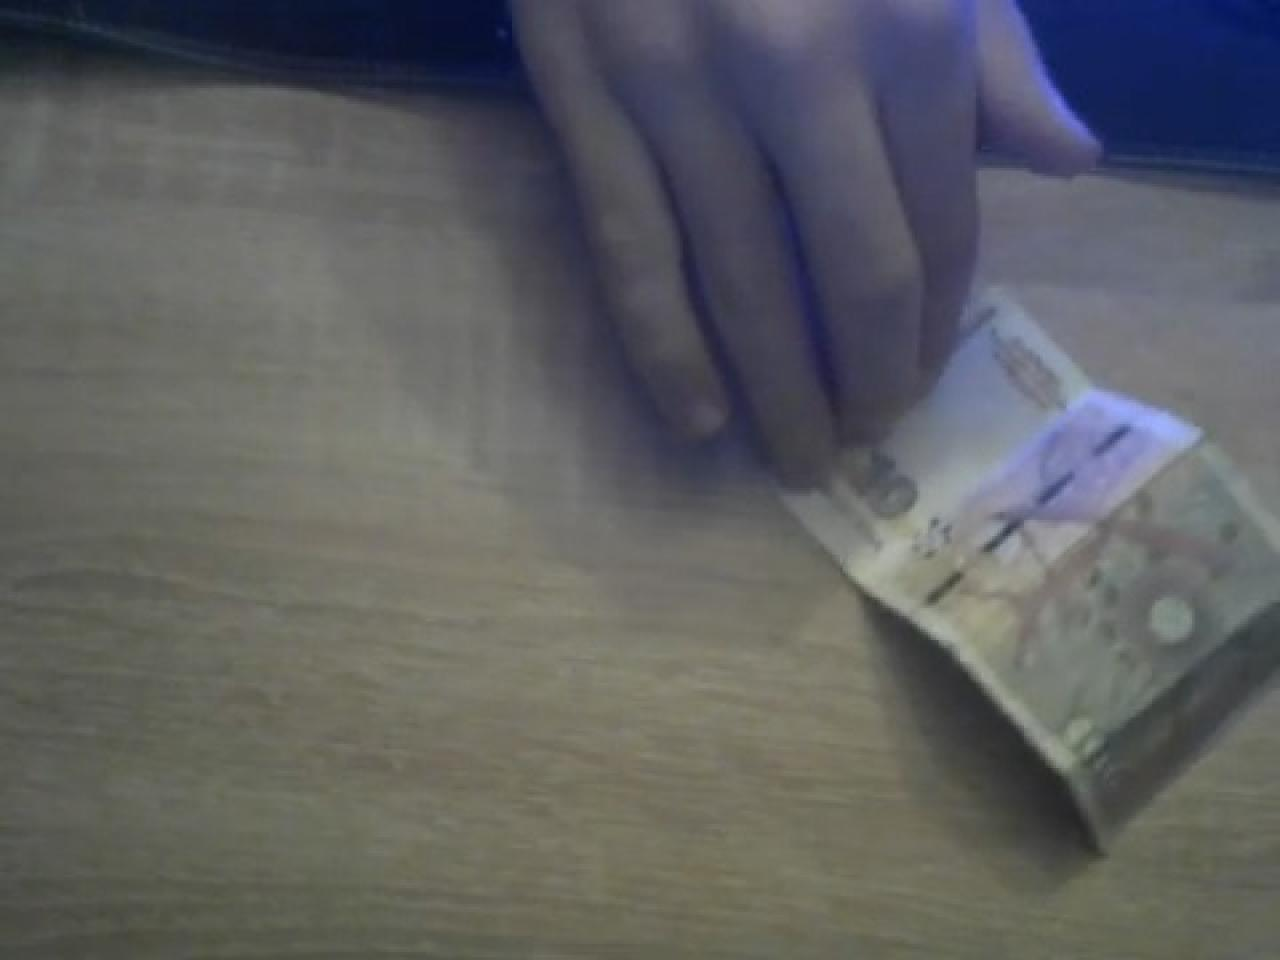10leva: (779, 290, 1280, 859)
